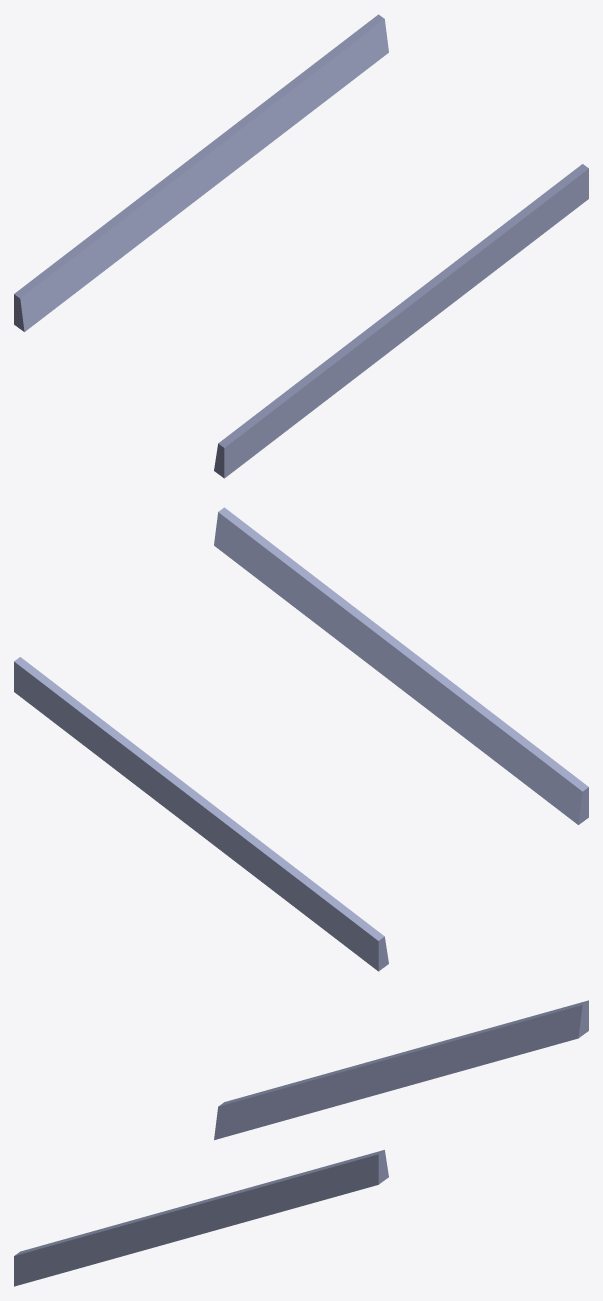
The model's file is road-slant-high-barrier.glb.
3 renders of one model, top to bottom at view 1: azimuth 30°, elevation 25°; view 2: azimuth 150°, elevation 25°; view 3: azimuth 330°, elevation 25°, orthographic.
Parts seen in each view (by area): view 1: road-slant-high-barrier; view 2: road-slant-high-barrier; view 3: road-slant-high-barrier.
Part boxes in pixels (x1,y1,x2,y2): road-slant-high-barrier: [14, 14, 588, 478]; road-slant-high-barrier: [14, 507, 588, 971]; road-slant-high-barrier: [14, 1000, 588, 1286].
Bounding box in the file's own units: 1 × 0.58 × 1.
Materials: 1 (1 with a texture image).
